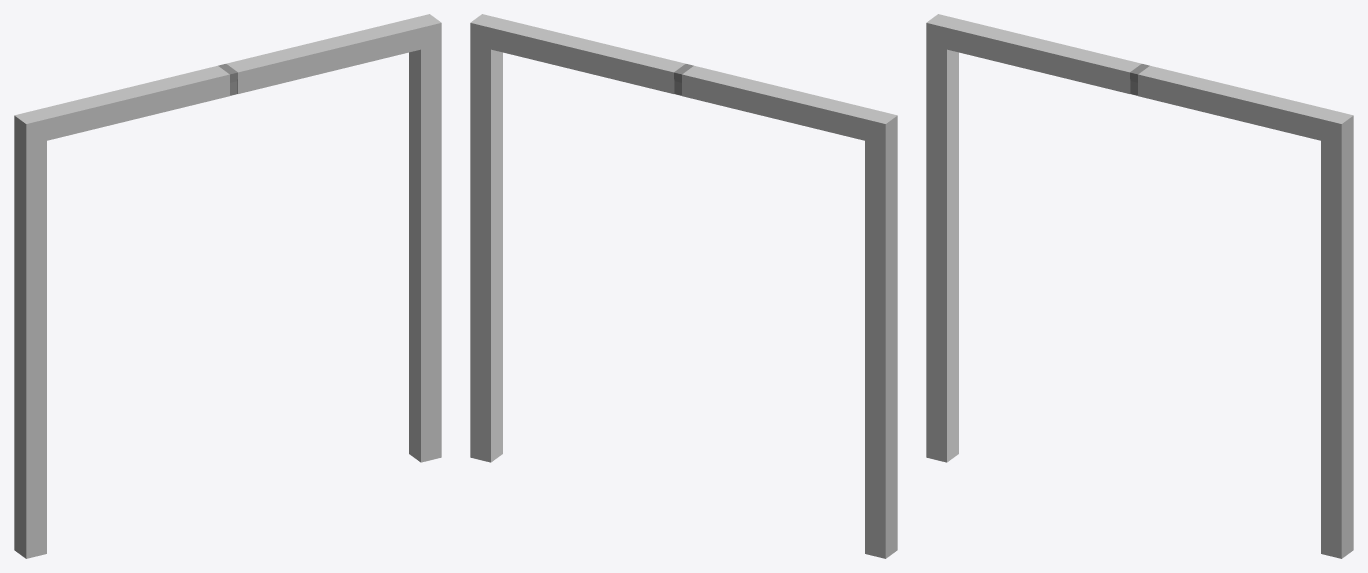
File: ConcreteGarageFrame.fbx
3 renders of one model, left to right at view 1: azimuth 30°, elevation 25°; view 2: azimuth 150°, elevation 25°; view 3: azimuth 330°, elevation 25°, orthographic.
Parts seen in each view (by area): view 1: ConcreteGarageFrame; view 2: ConcreteGarageFrame; view 3: ConcreteGarageFrame.
Part boxes in pixels (box(x1,y1,x2,y2)): ConcreteGarageFrame: box(14, 14, 441, 558); ConcreteGarageFrame: box(470, 14, 897, 558); ConcreteGarageFrame: box(926, 14, 1353, 558).
Size of the model in its own units: 200 by 200 by 10.
